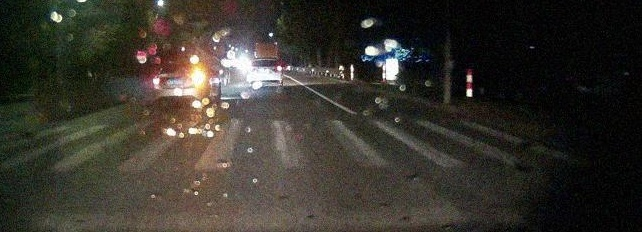L_light: (153, 78, 160, 85), (250, 67, 256, 72)
R_light: (192, 73, 206, 84), (277, 66, 282, 71)
T_light: (177, 64, 186, 65), (261, 60, 268, 61)
night-no: (249, 58, 283, 90)
night-right: (153, 62, 206, 108)
